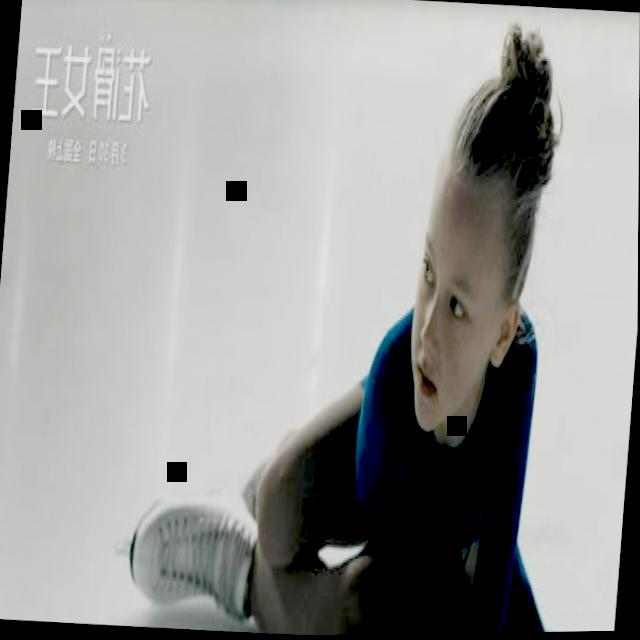Fall-Detected: (91, 0, 612, 639)
